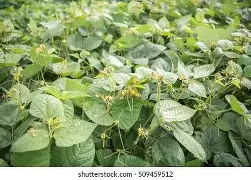crops: (0, 0, 249, 167)
